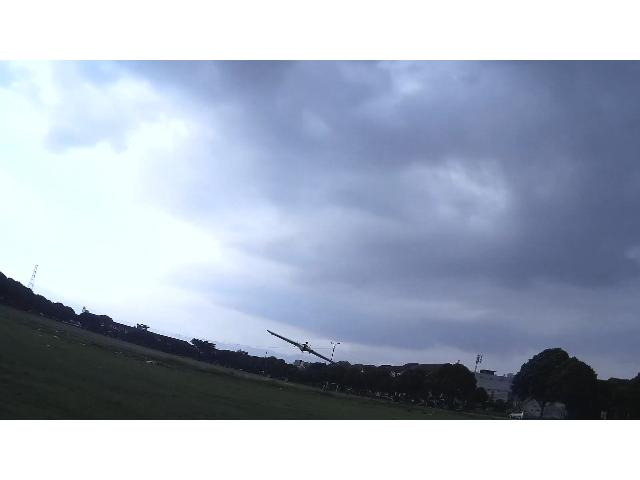Anti-Drone: (268, 329, 338, 364)
